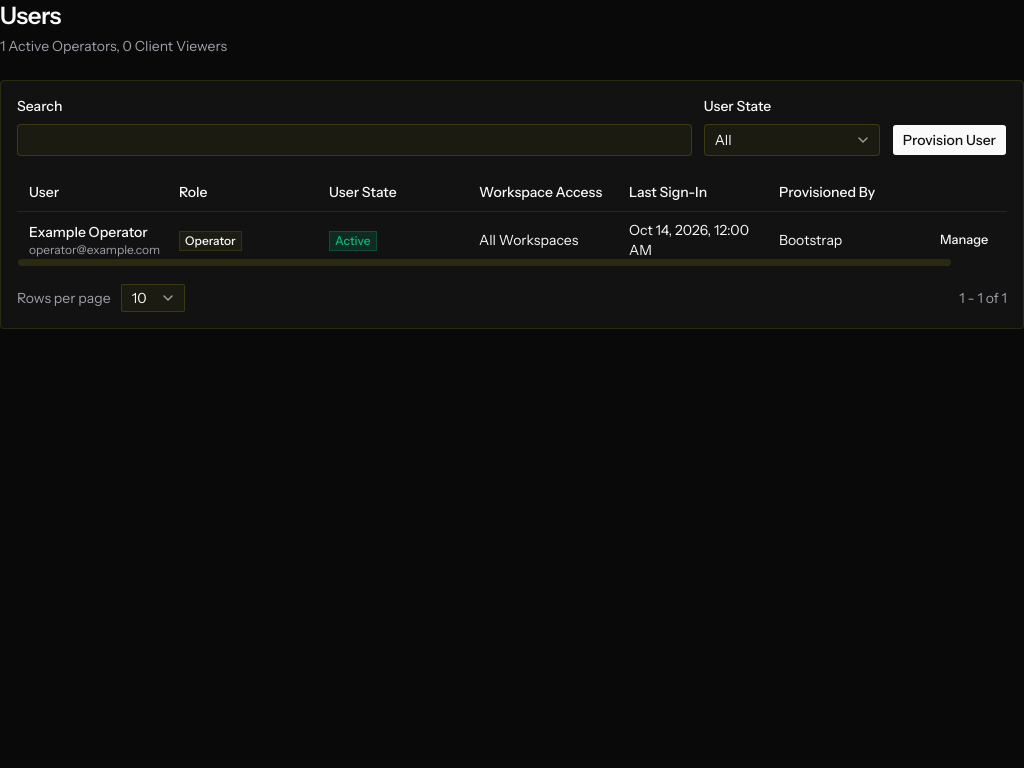
it: application shell › provisions an Operator with delivery feedback
Expected: the text "Example Operator" is shown, [29,222,155,242]
Click the button "Provision User" at (949, 140), box [892,124,1007,156]
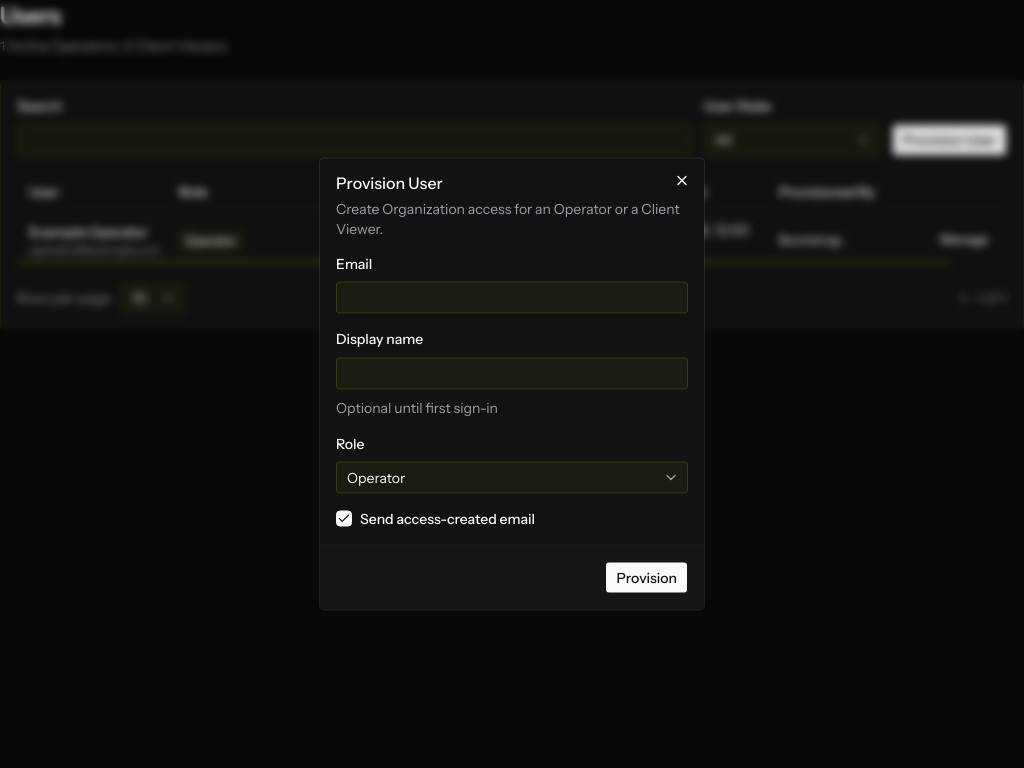
Type "second@example.com" into the field labelled "Email" at (512, 298), box [336,282,688,314]
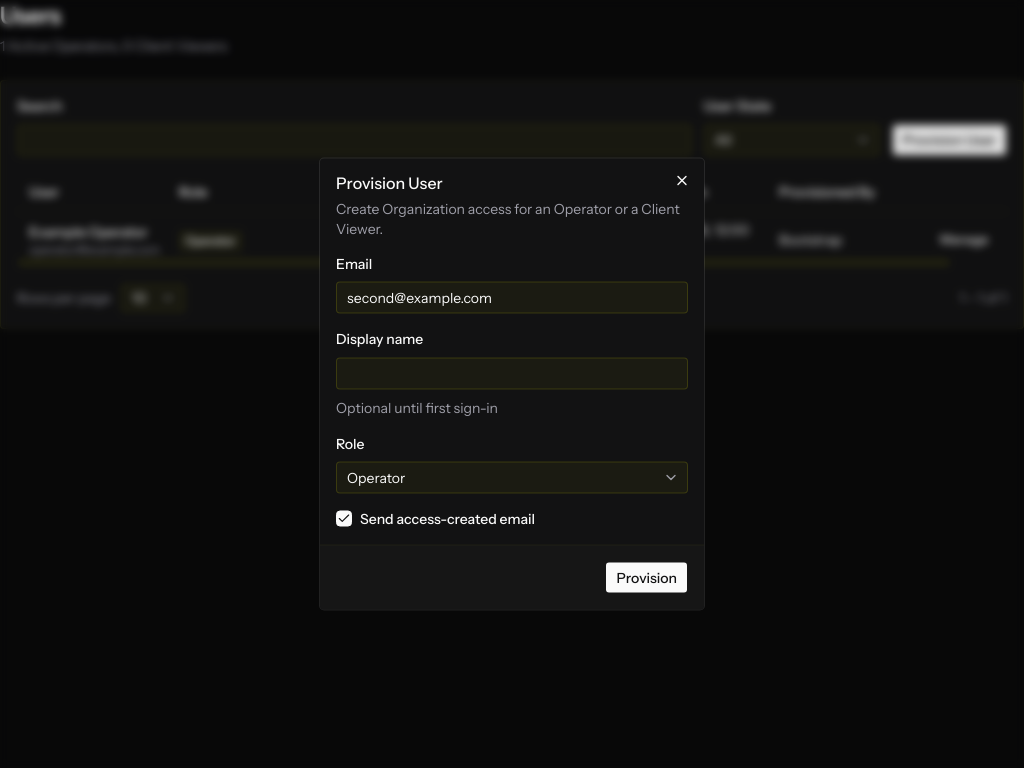
Click the button "Provision" at (647, 578), box [606,562,688,594]
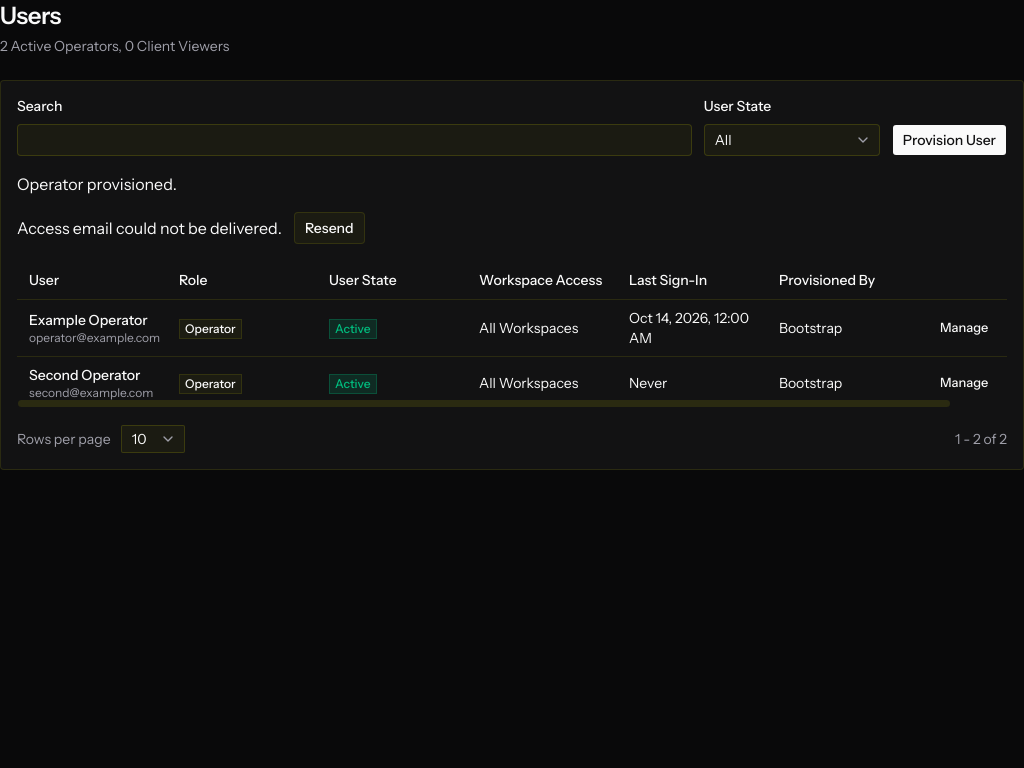
Expected: the message "Access email could not be delivered." is shown, [17,216,282,240]
Expected: the button "Resend" is shown, [294,212,365,244]
